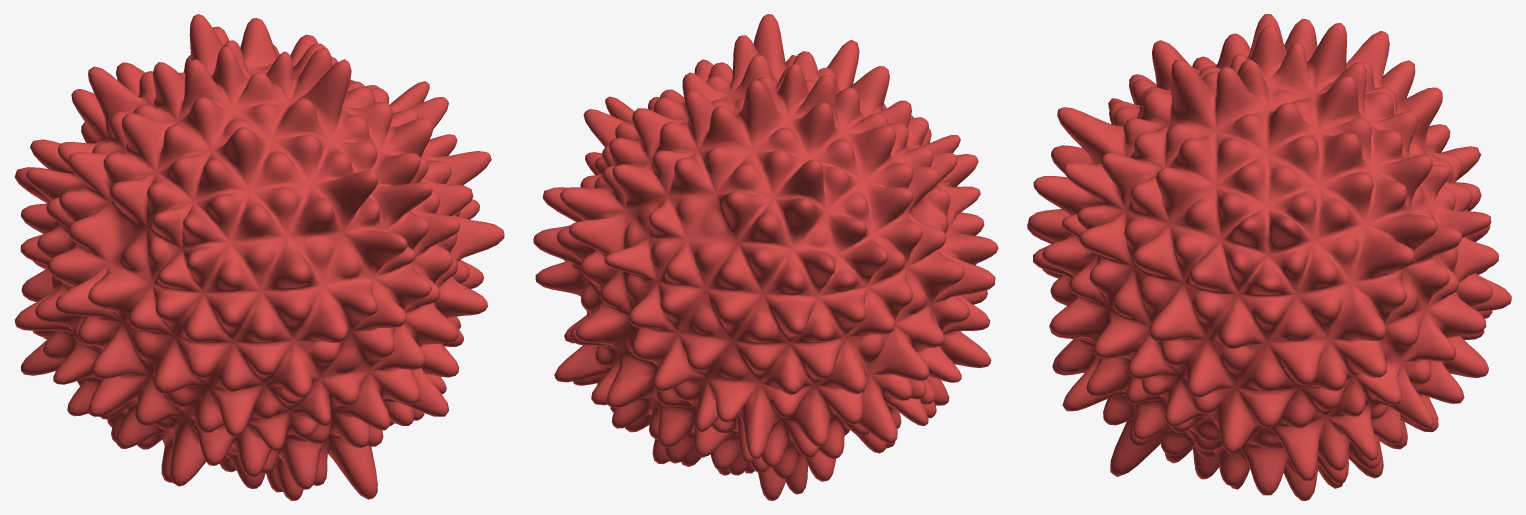
Rendered from macrophag.fbx.
3 renders of one model, left to right at view 1: azimuth 30°, elevation 25°; view 2: azimuth 150°, elevation 25°; view 3: azimuth 270°, elevation 25°, orthographic. The views are drawn at different scales.
Parts seen in each view (by area): view 1: Icosphere.000; view 2: Icosphere.000; view 3: Icosphere.000.
Boxes of the visible parts, left/top/right/bottom form: Icosphere.000: left=14, top=14, right=504, bottom=500; Icosphere.000: left=533, top=14, right=998, bottom=500; Icosphere.000: left=1027, top=14, right=1511, bottom=500.
Size of the model in its own units: 823 by 832 by 810.
